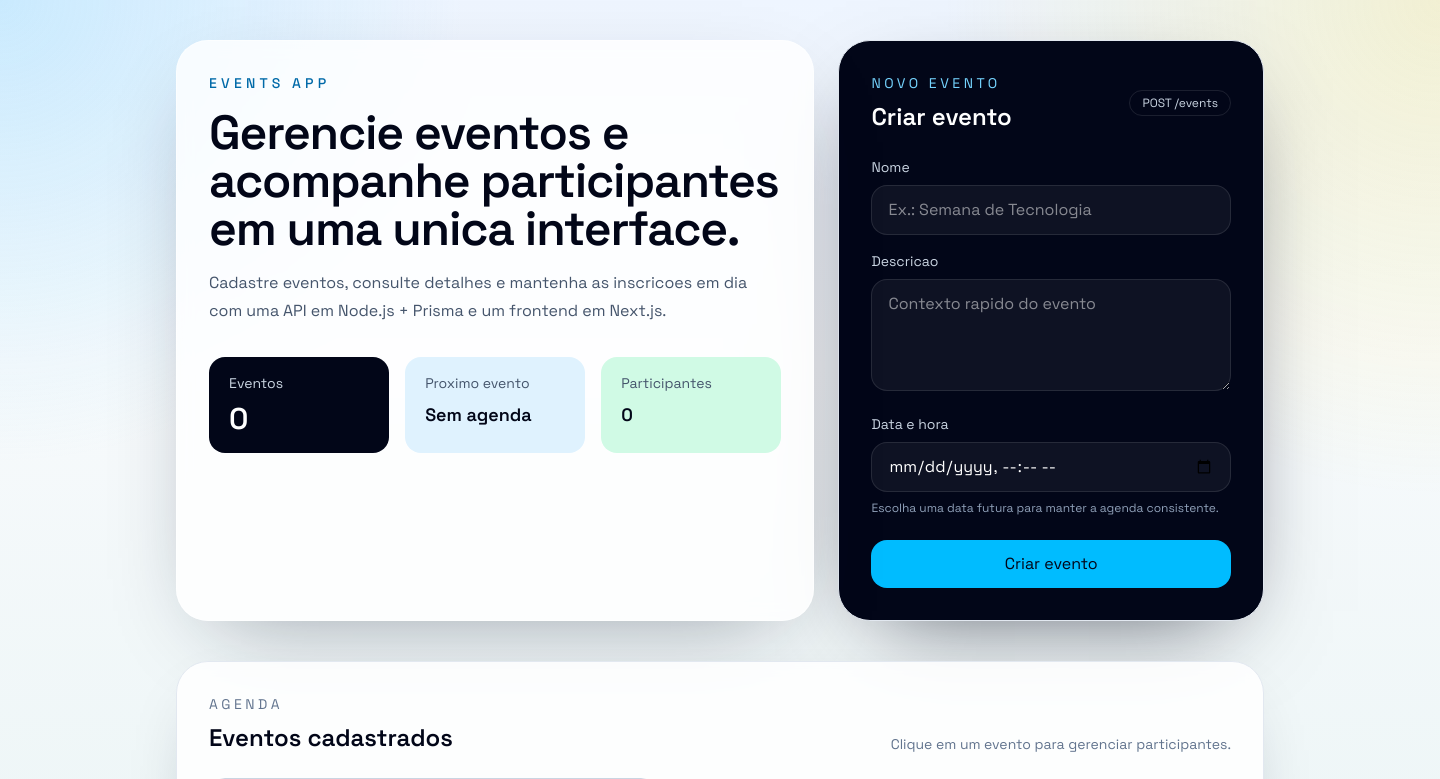
Scenario: HomePage › shows error banner when event creation fails
The image size is (1440, 779).
Type "Tech Summit" into the field with placeholder "Ex.: Semana de Tecnologia".
click(1051, 210); type("Tech Summit")  # box 871,185 -> 1231,235
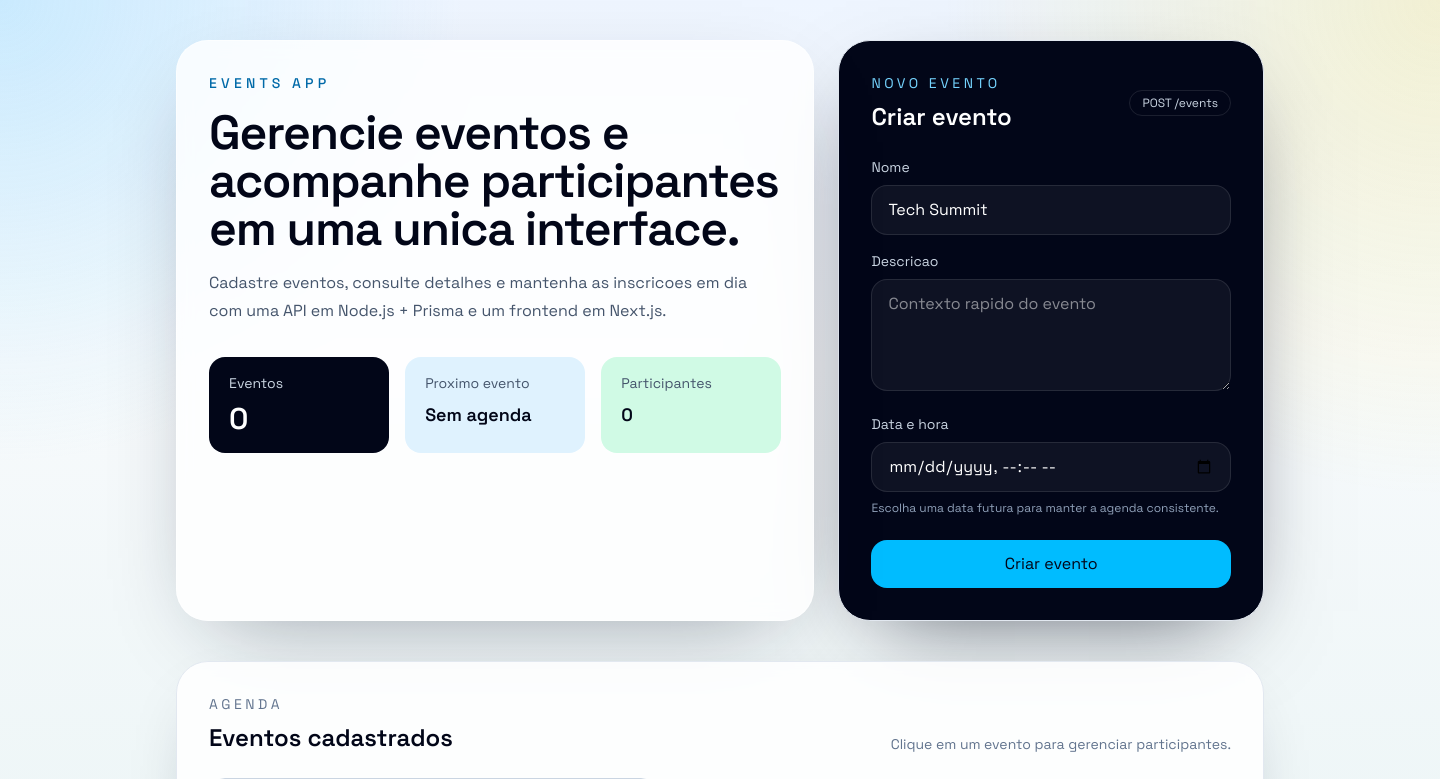
Type "2030-01-15T10:00" into the 2nd field.
click(1051, 467); type("2030-01-15T10:00")  # box 871,442 -> 1231,492
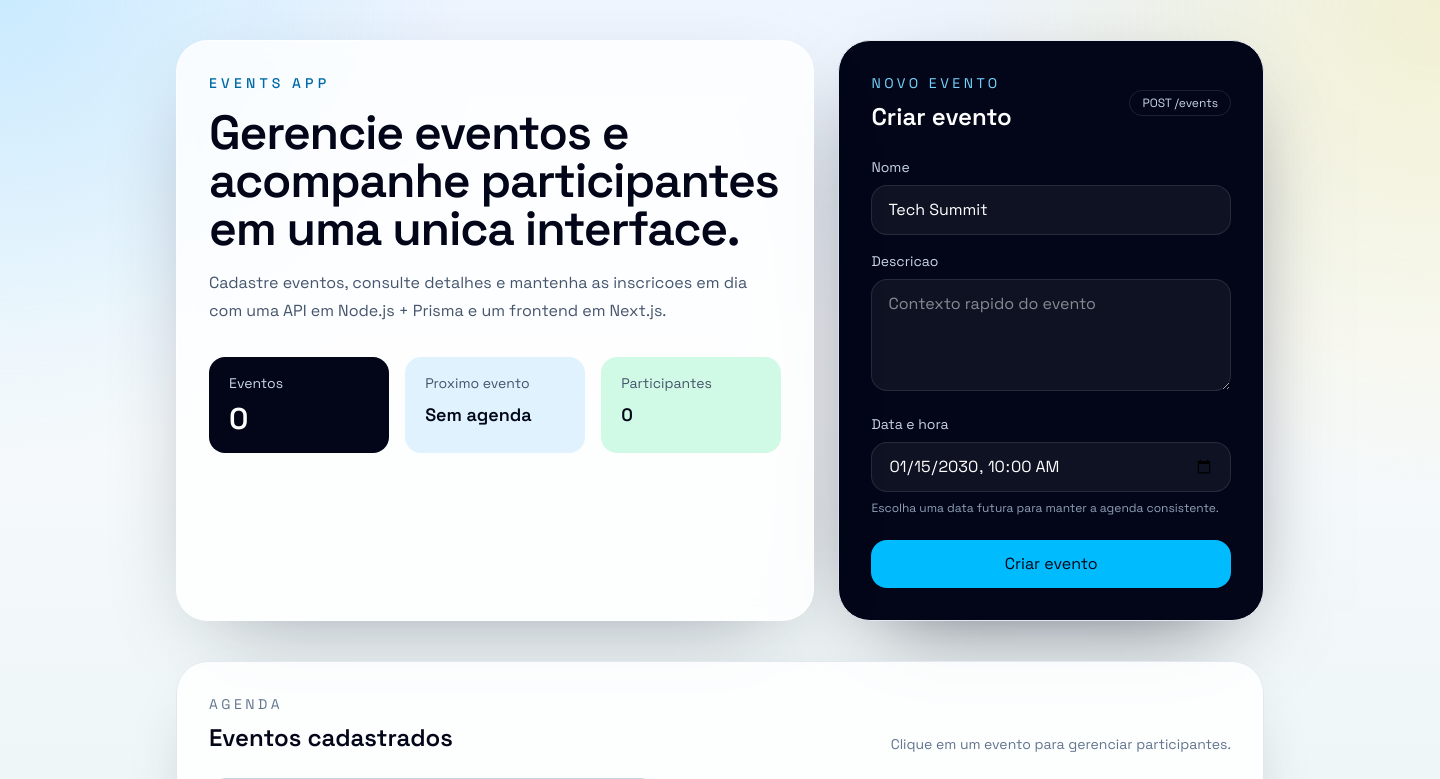
Submit the form from the button "Criar evento", box 871,540 -> 1231,588
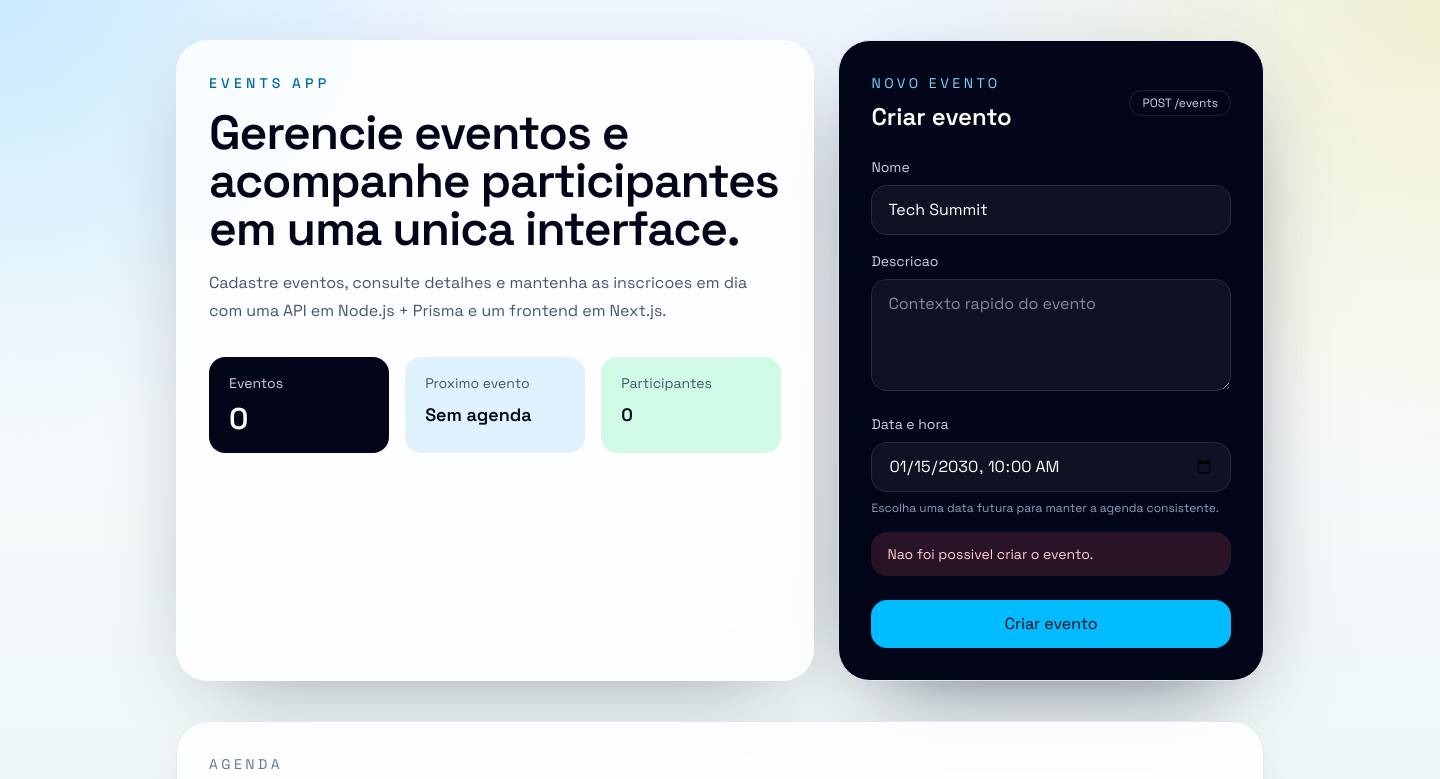
Check: the text "Nao foi possivel criar o evento." is shown, box 871,532 -> 1231,576
